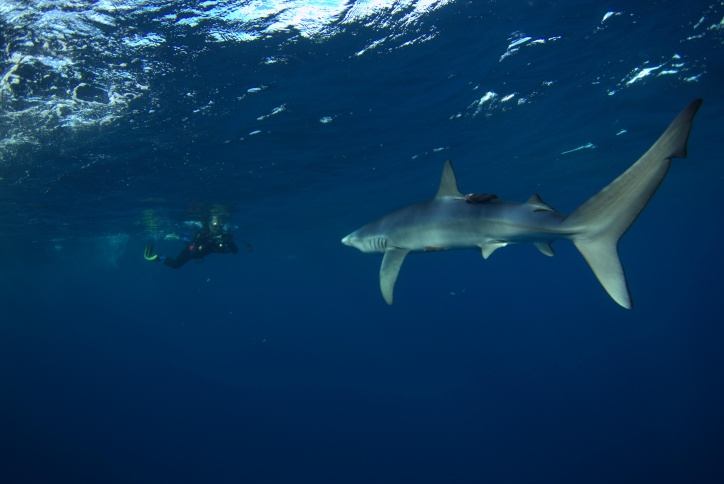Azul: (296, 70, 724, 343)
